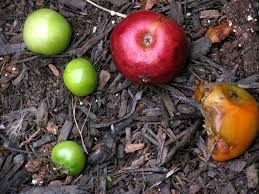apple: (22, 13, 68, 53), (61, 59, 100, 98), (49, 141, 84, 175)
damaged_apple: (110, 15, 193, 85), (194, 84, 255, 161)
